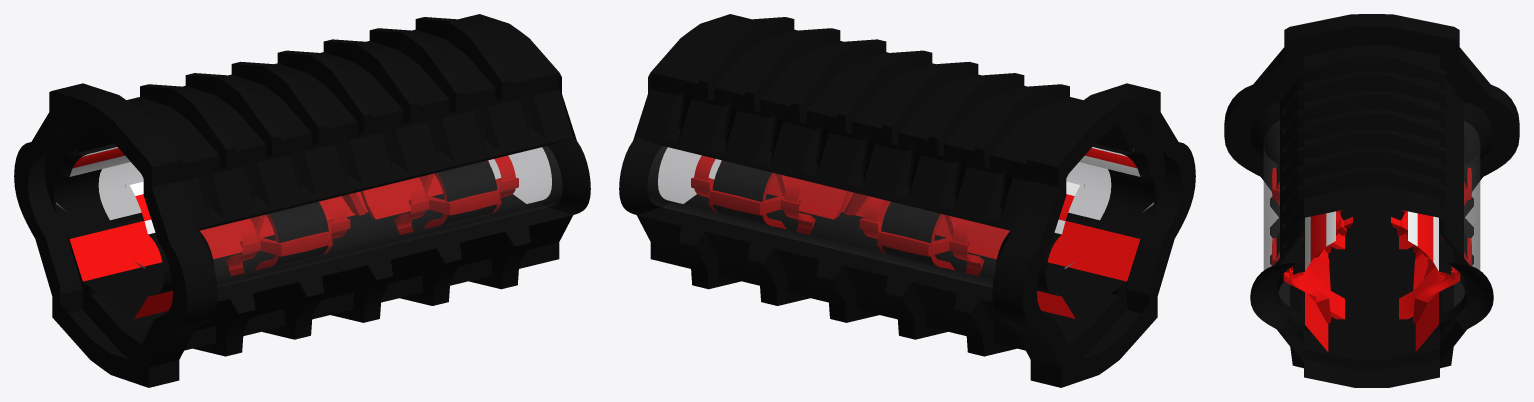
The model's file is Connect_04.FBX.
3 renders of one model, left to right at view 1: azimuth 30°, elevation 25°; view 2: azimuth 150°, elevation 25°; view 3: azimuth 270°, elevation 25°, orthographic. The views are drawn at different scales.
Visible parts, largest first — view 1: Connect_str_00; view 2: Connect_str_00; view 3: Connect_str_00.
Part boxes in pixels (x1,y1,x2,y2): Connect_str_00: [14, 14, 590, 387]; Connect_str_00: [619, 14, 1195, 387]; Connect_str_00: [1224, 14, 1519, 387].
Size of the model in its own units: 1313 by 764 by 933.
